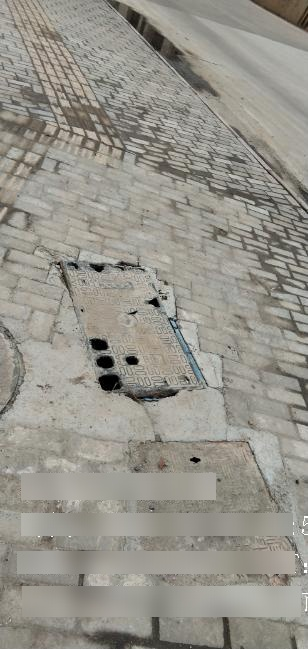well: (56, 254, 207, 400)
